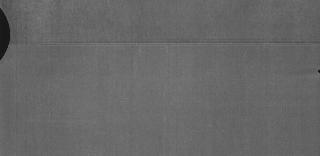punching hole: (314, 68, 320, 74)
welding line: (7, 39, 320, 49)
